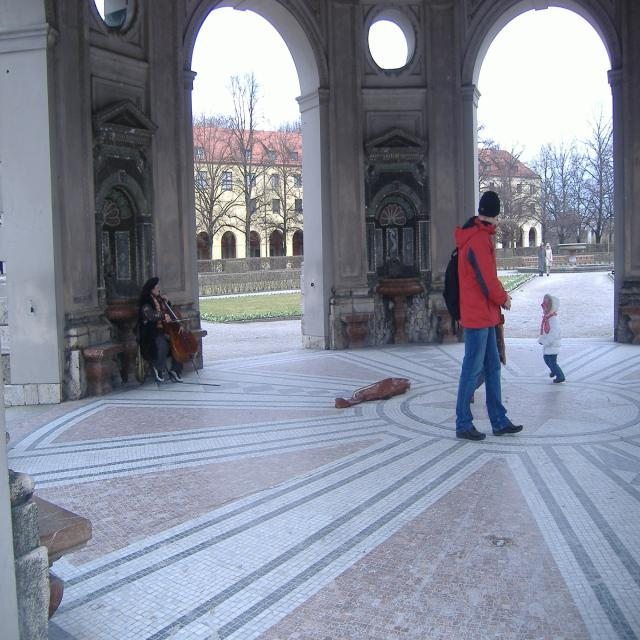cello: (160, 295, 200, 365)
